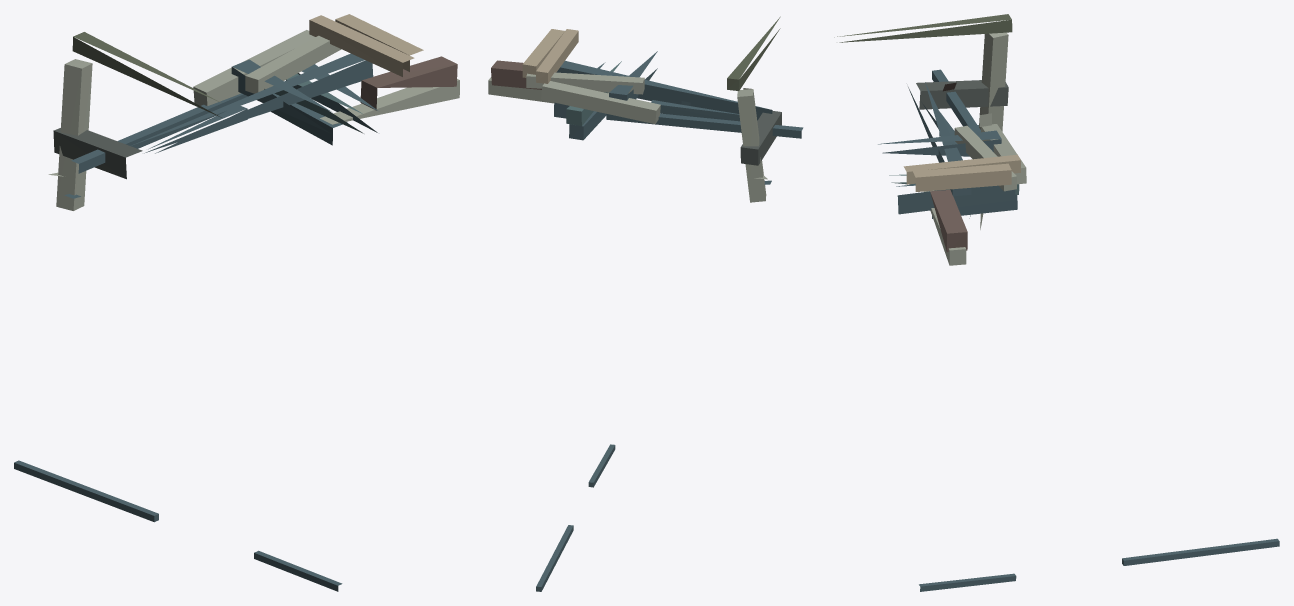
File: terminal-30---114_-19.glb
The picture shows the model from 3 angles, left to right: view 1: azimuth 30°, elevation 25°; view 2: azimuth 150°, elevation 25°; view 3: azimuth 270°, elevation 25°; orthographic projection. The views are drawn at different scales.
Visible parts, largest first — view 1: measured-industrial; view 2: measured-industrial; view 3: measured-industrial.
Part boxes in pixels (x1,y1,x2,y2): measured-industrial: (14,14,459,591); measured-industrial: (488,16,803,591); measured-industrial: (834,14,1279,591).
Bounding box in the file's own units: 37.03 × 51.33 × 42.53.
